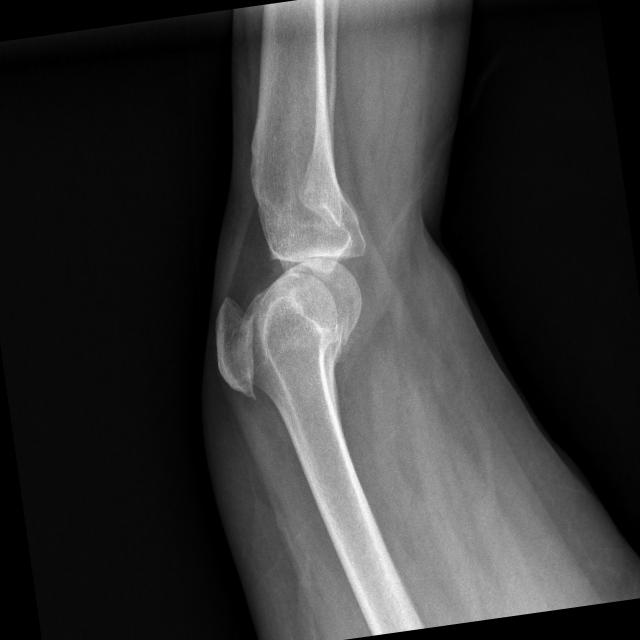Knee: (195, 197, 388, 407)
